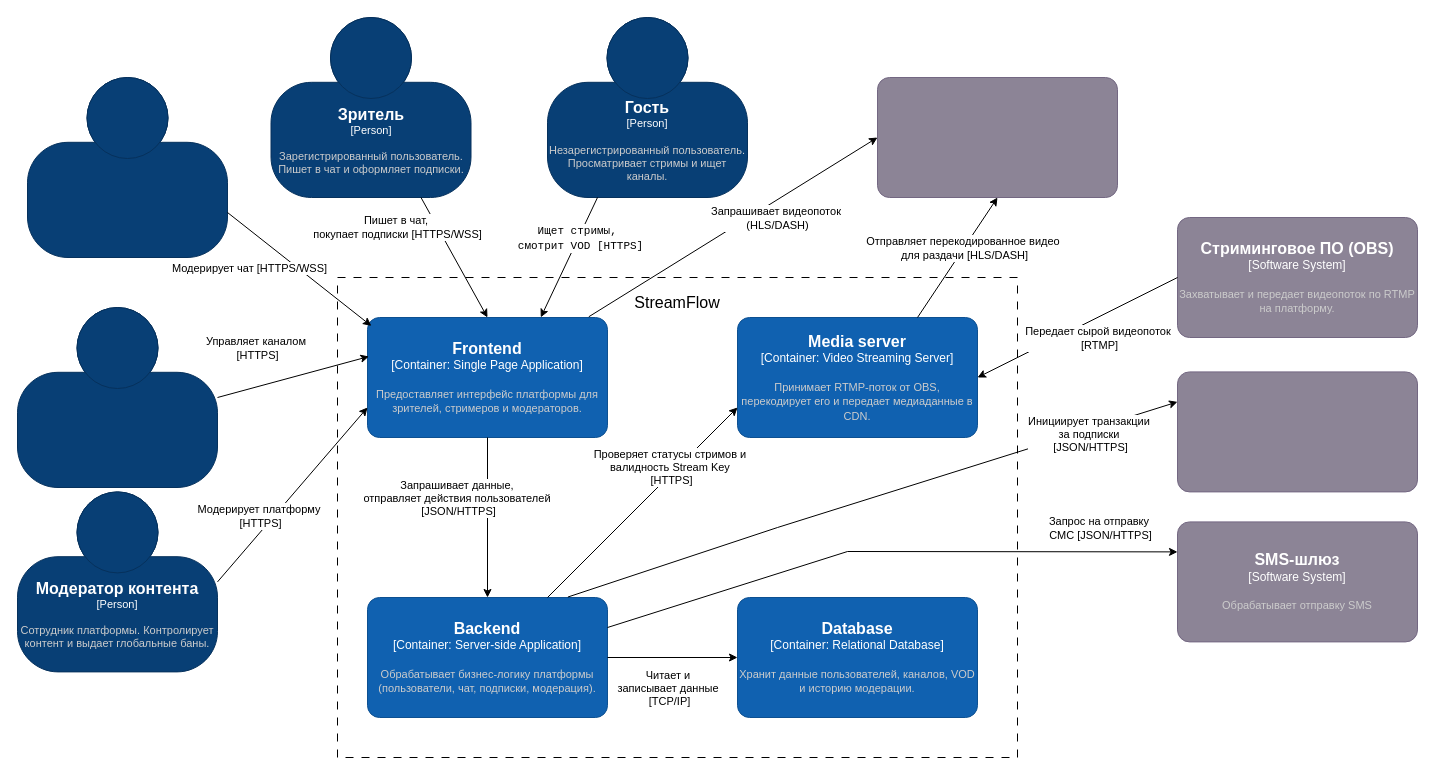
Some shapes in this 1435 by 775 pixel diagram are drawn without their labels. The shapes that lost their labels are listed below. From the top down, each one's centre as x and y in pixels, then its label:
[997,137]: CDN [Software System] Сеть доставки контента для раздачи видеопотока зрителям.
[127,167]: Модератор канала [Person] Следит за порядком в чате конкретного канала.
[117,397]: Стример [Person] Ведёт трансляции и управляет своим каналом.
[1297,431]: Платежная система [Software System] Обрабатывает транзакции за платные подписки.
